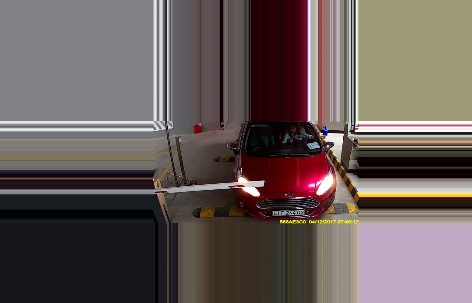plate: (272, 209, 305, 215)
